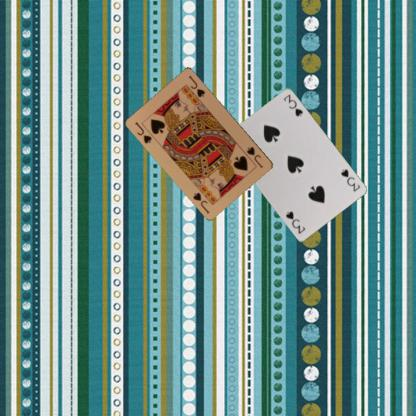3s: (338, 166, 361, 192)
Js: (132, 119, 153, 145), (244, 144, 264, 169)
